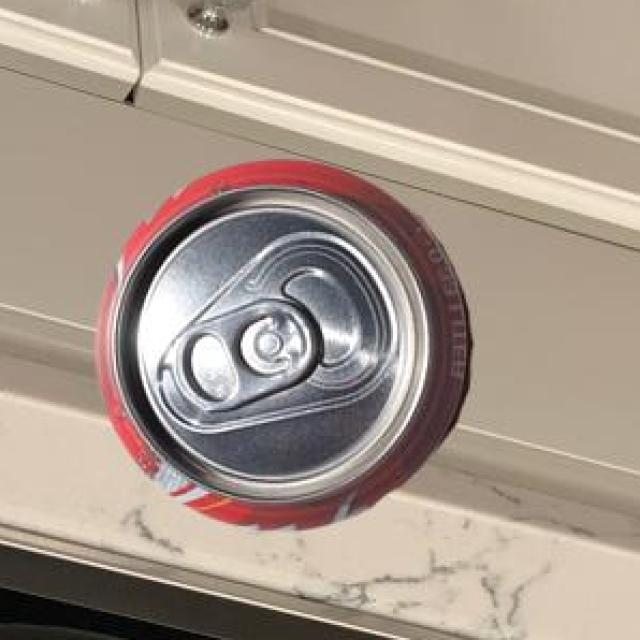logam: (93, 164, 469, 534)
